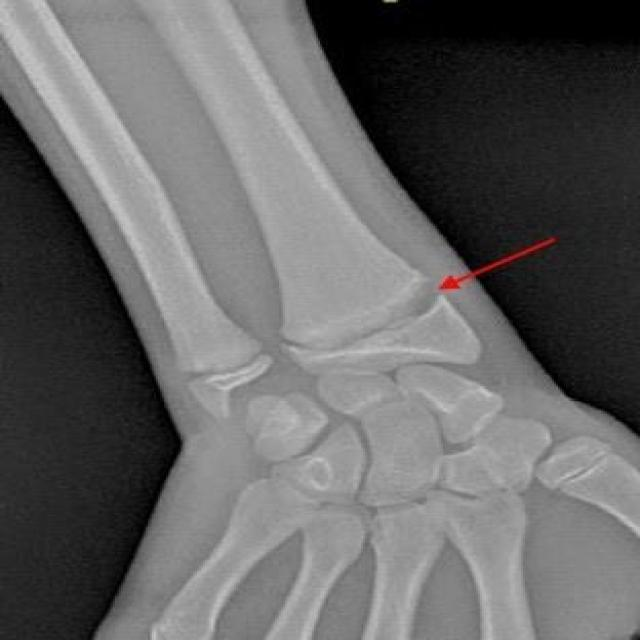bone: (362, 272, 460, 340)
